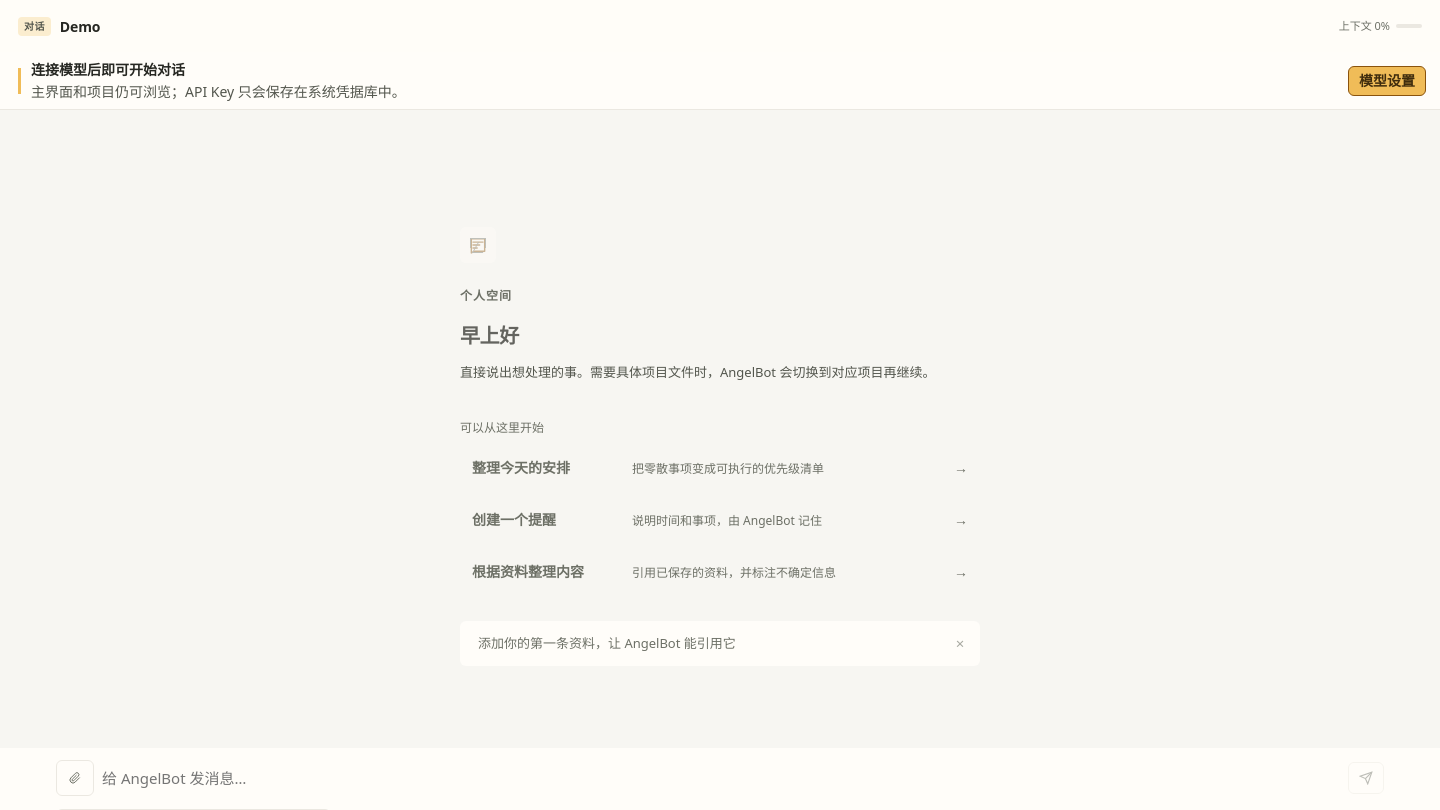
ChatArea › sends without throwing when a session is active
Type "hello" into the text box with placeholder "给 AngelBot 发消息…" at (721, 778), box top-left (102, 762), bottom-right (1340, 795)
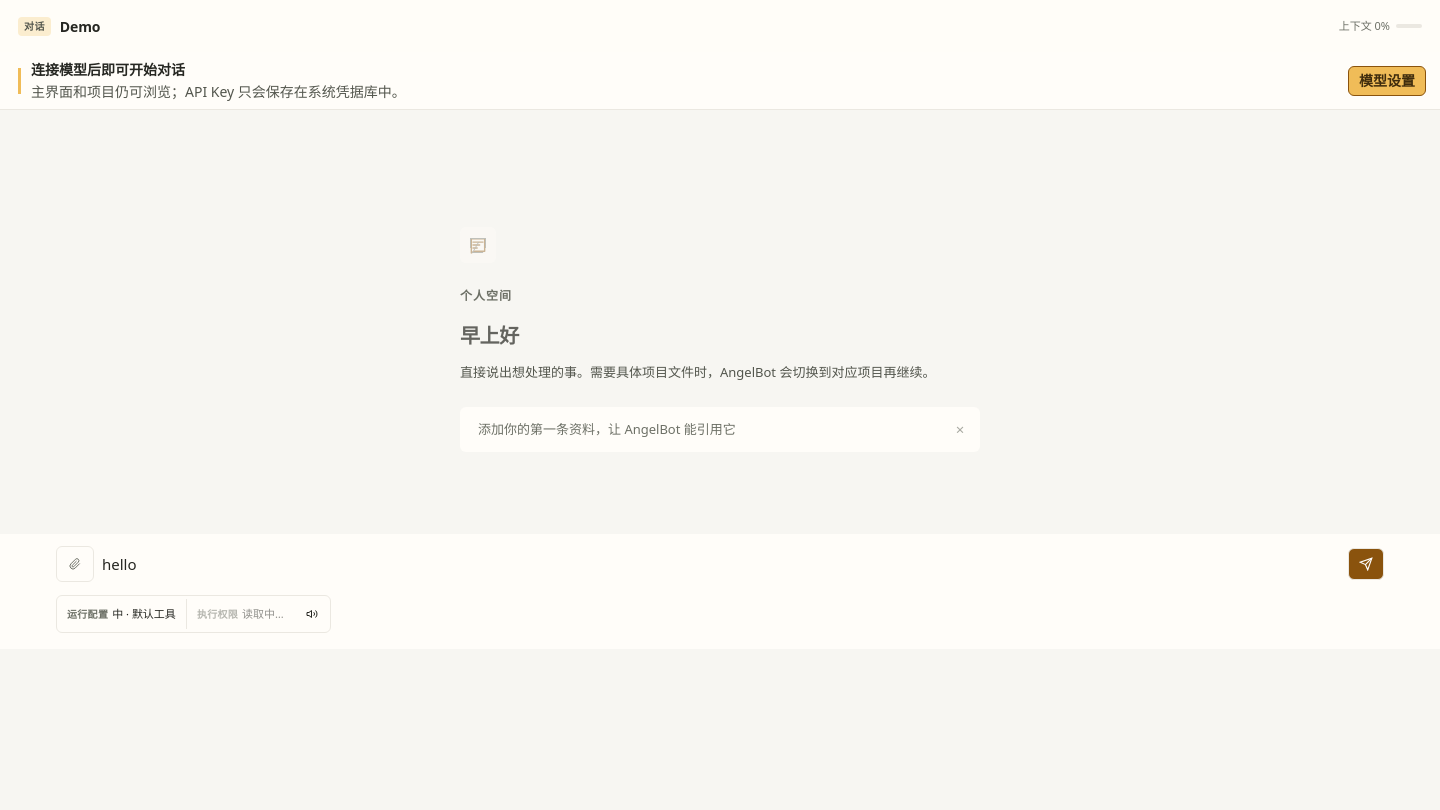
Click the button named "发送" at (1366, 564), box top-left (1348, 548), bottom-right (1384, 580)
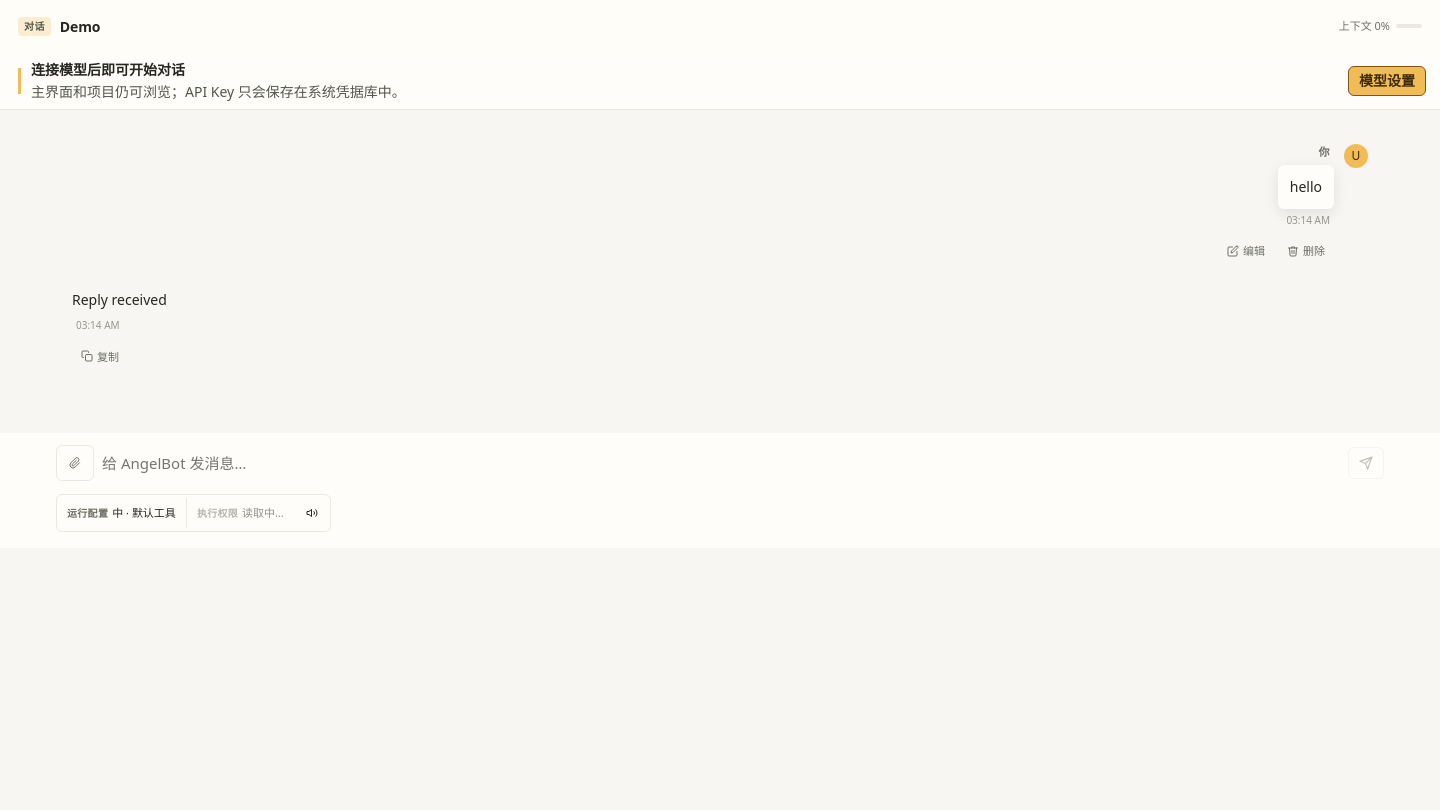
Check: the text "Reply received" is shown, box top-left (72, 290), bottom-right (167, 309)
